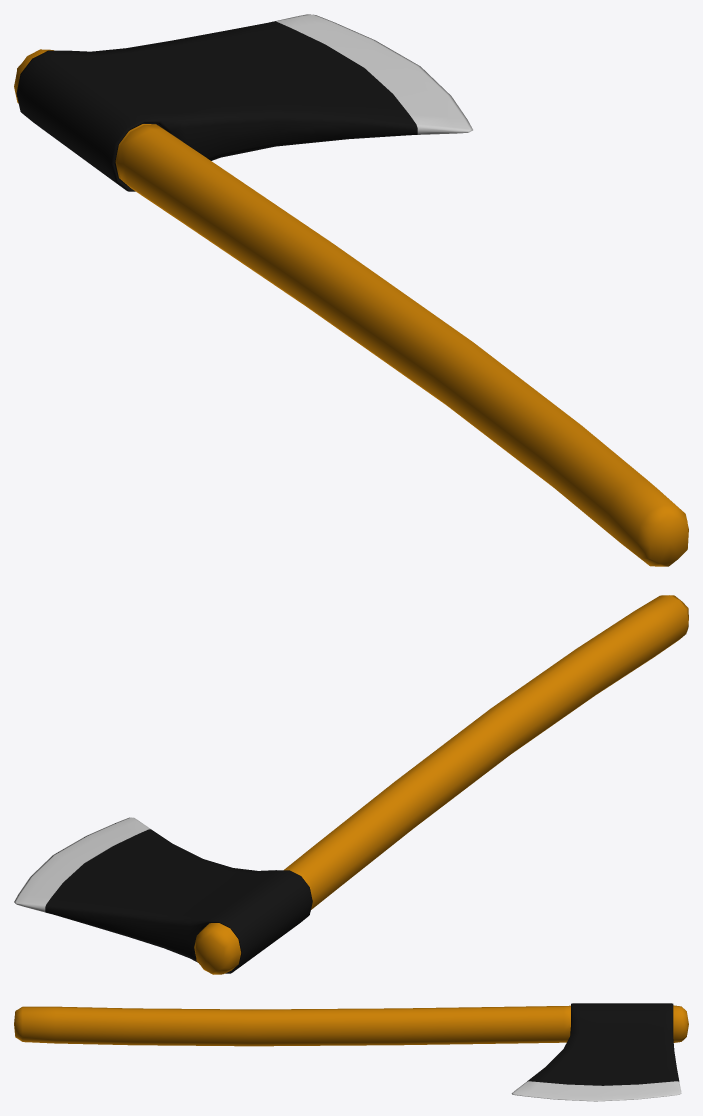
File: axe.fbx
3 views of the same model, one above another, from view 1: azimuth 30°, elevation 25°; view 2: azimuth 150°, elevation 25°; view 3: azimuth 270°, elevation 25° (orthographic). The views are drawn at different scales.
Visible parts, largest first — view 1: Cube.001 (×3); view 2: Cube.001 (×3); view 3: Cube.001 (×3).
Part boxes in pixels (x1,y1,x2,y2): Cube.001 (×3): (14,14,688,566); Cube.001 (×3): (14,595,688,974); Cube.001 (×3): (14,1003,688,1101).
Bounding box in the file's own units: 562 × 116 × 1870.
